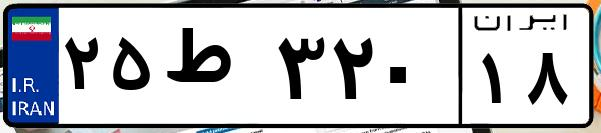0: (385, 28, 445, 110)
1: (475, 38, 525, 113)
2: (330, 28, 385, 110), (57, 26, 110, 100)
3: (270, 28, 330, 110)
5: (110, 28, 158, 98)
8: (525, 38, 570, 115)
ط: (158, 20, 270, 120)
